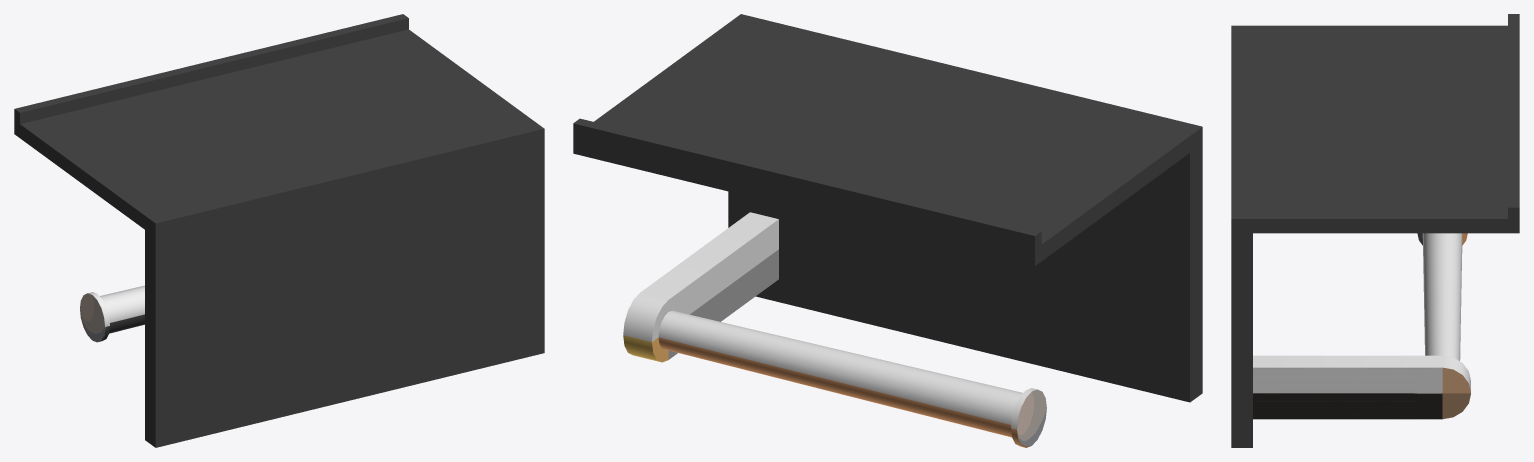
The model's file is TissueHanger06.fbx.
3 renders of one model, left to right at view 1: azimuth 30°, elevation 25°; view 2: azimuth 150°, elevation 25°; view 3: azimuth 270°, elevation 25°, orthographic. The views are drawn at different scales.
Visible parts, largest first — view 1: TissueHanger06; view 2: TissueHanger06; view 3: TissueHanger06.
Boxes of the visible parts, left/top/right/bottom form: TissueHanger06: left=14, top=14, right=544, bottom=447; TissueHanger06: left=573, top=14, right=1202, bottom=447; TissueHanger06: left=1231, top=14, right=1519, bottom=447.
Size of the model in its own units: 20.23 by 11.72 by 12.73.
